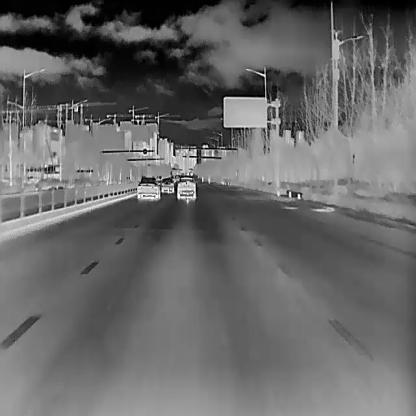car: (136, 174, 159, 199), (176, 176, 195, 199), (159, 177, 174, 193)
